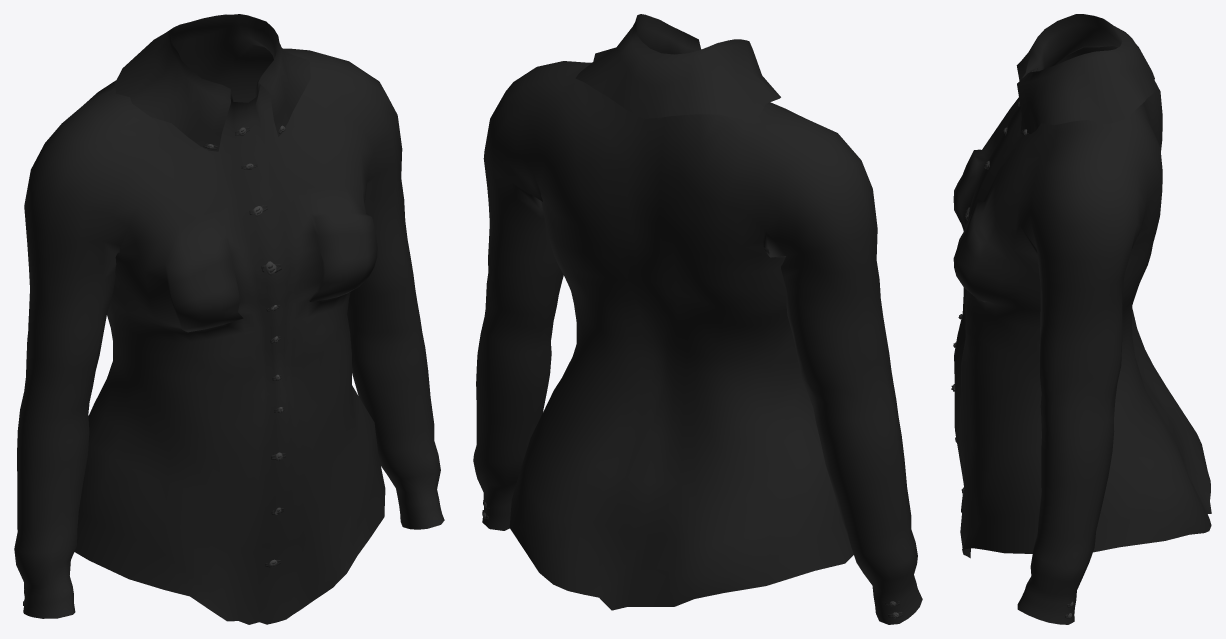
File: elvs-male-shirt-untucked-bd1.glb
The picture shows the model from 3 angles, left to right: view 1: azimuth 30°, elevation 25°; view 2: azimuth 150°, elevation 25°; view 3: azimuth 270°, elevation 25°; orthographic projection. The views are drawn at different scales.
Visible parts, largest first — view 1: Human.elvs_male_shirt_untucked_bd1; view 2: Human.elvs_male_shirt_untucked_bd1; view 3: Human.elvs_male_shirt_untucked_bd1.
Part boxes in pixels (x1,y1,x2,y2): Human.elvs_male_shirt_untucked_bd1: (14, 14, 444, 624); Human.elvs_male_shirt_untucked_bd1: (473, 14, 922, 624); Human.elvs_male_shirt_untucked_bd1: (951, 14, 1211, 624).
Bounding box in the file's own units: 0.5122 × 0.6437 × 0.2936.
1 material, 1 textured.
